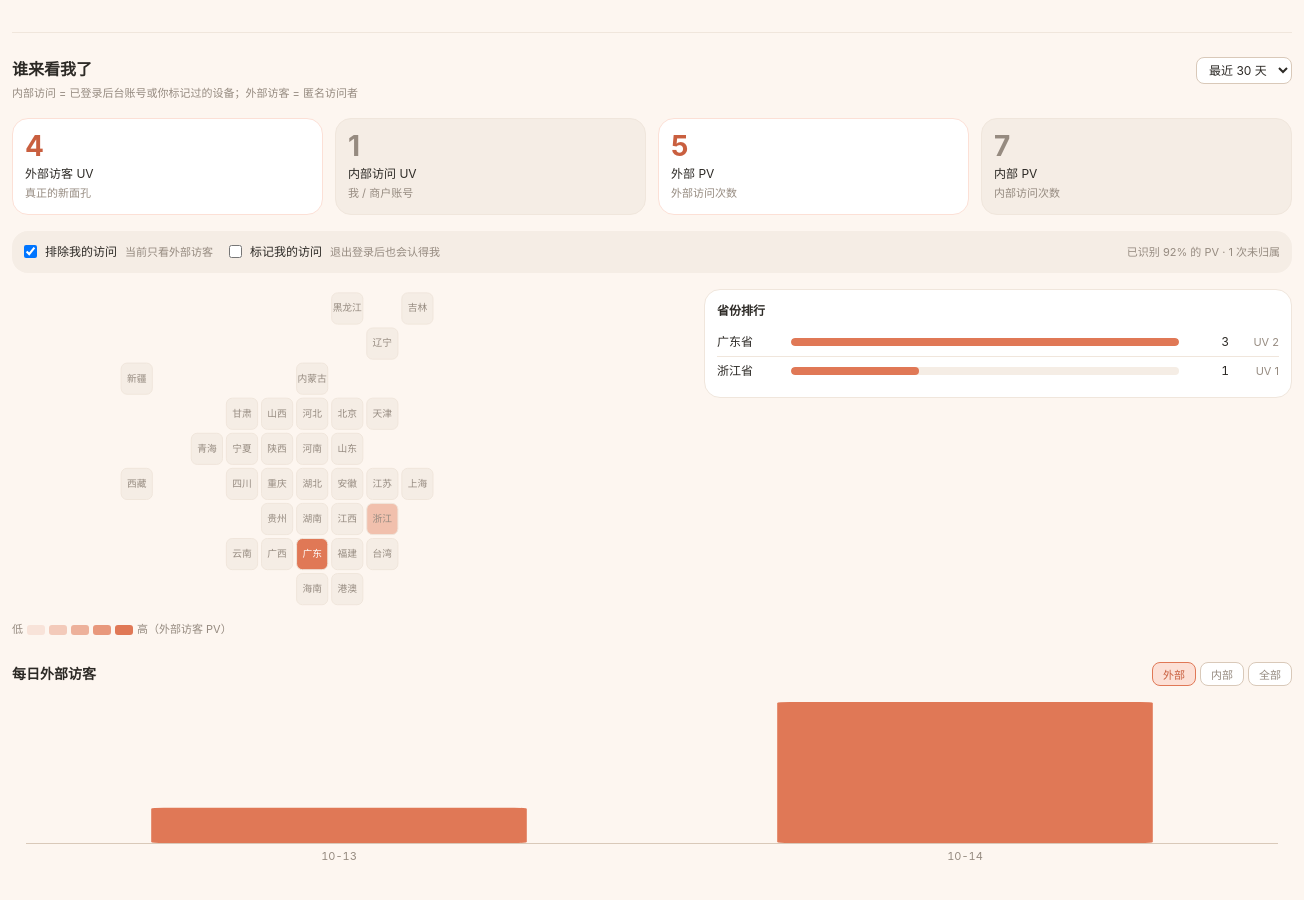
Test: RegionStatsPanel › 切时间窗会重新拉取并收回下钻
Check: the text "外部访客 UV" is shown, box [25, 166, 94, 181]
Step 1. Click the text "广东省" → {"x": 735, "y": 341}, box [717, 334, 753, 349]
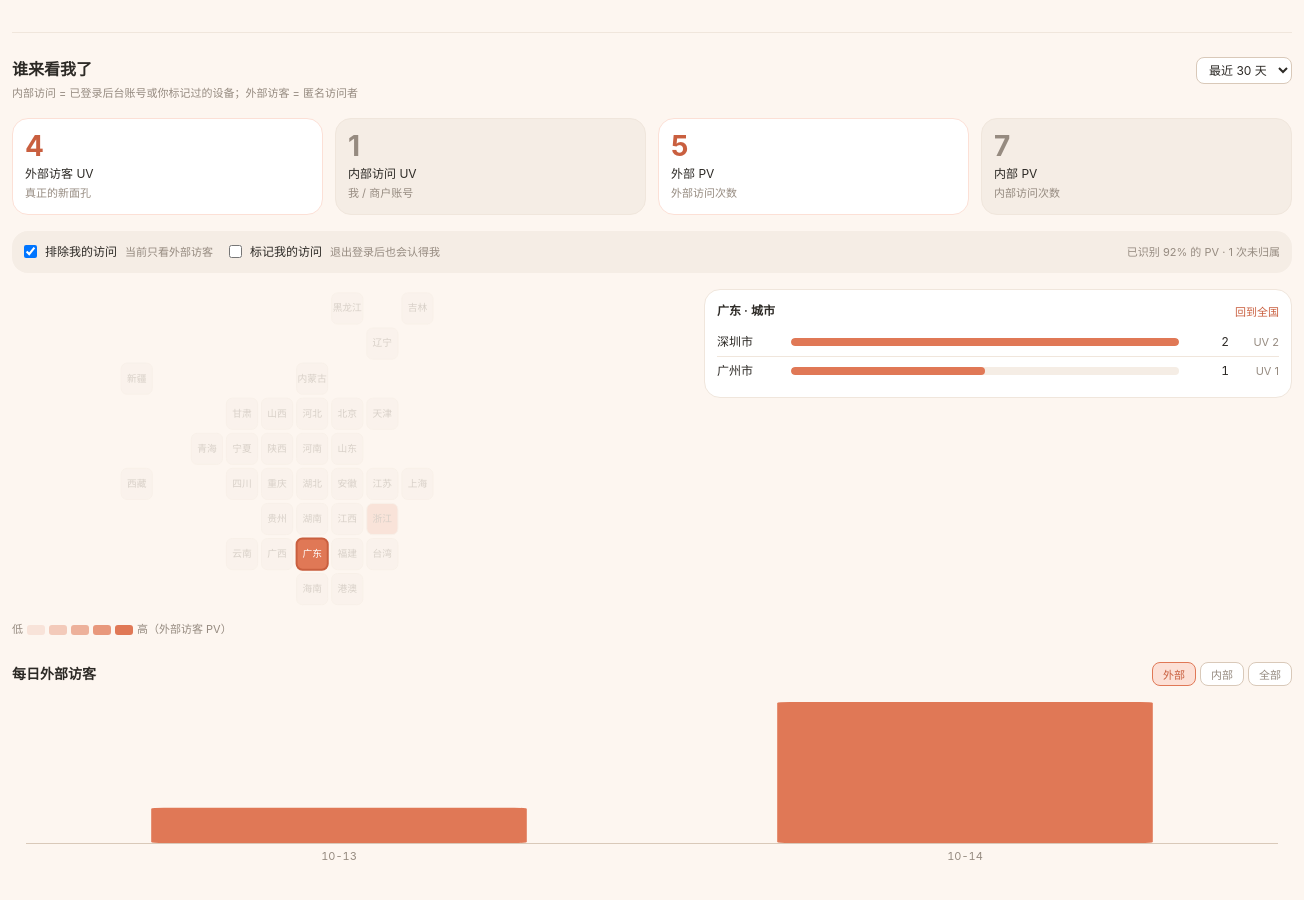
Check: the text "广东 · 城市" is shown, box [717, 302, 775, 320]
Step 2. Select "最近 7 天" in the dropdown named "来源地统计时间范围" → {"x": 1244, "y": 70}, box [1196, 57, 1292, 84]
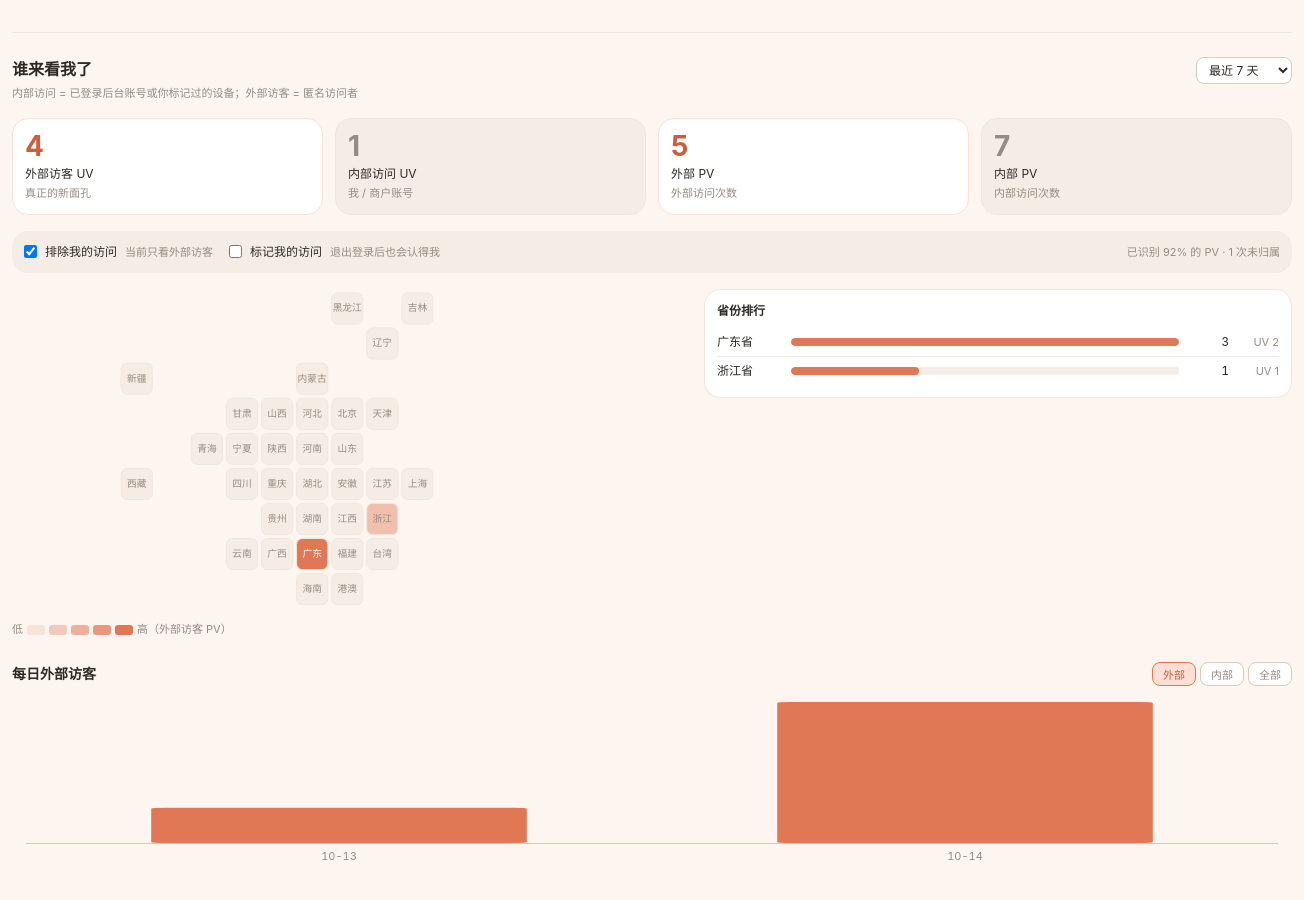
Check: the text "省份排行" is shown, box [717, 302, 765, 320]
